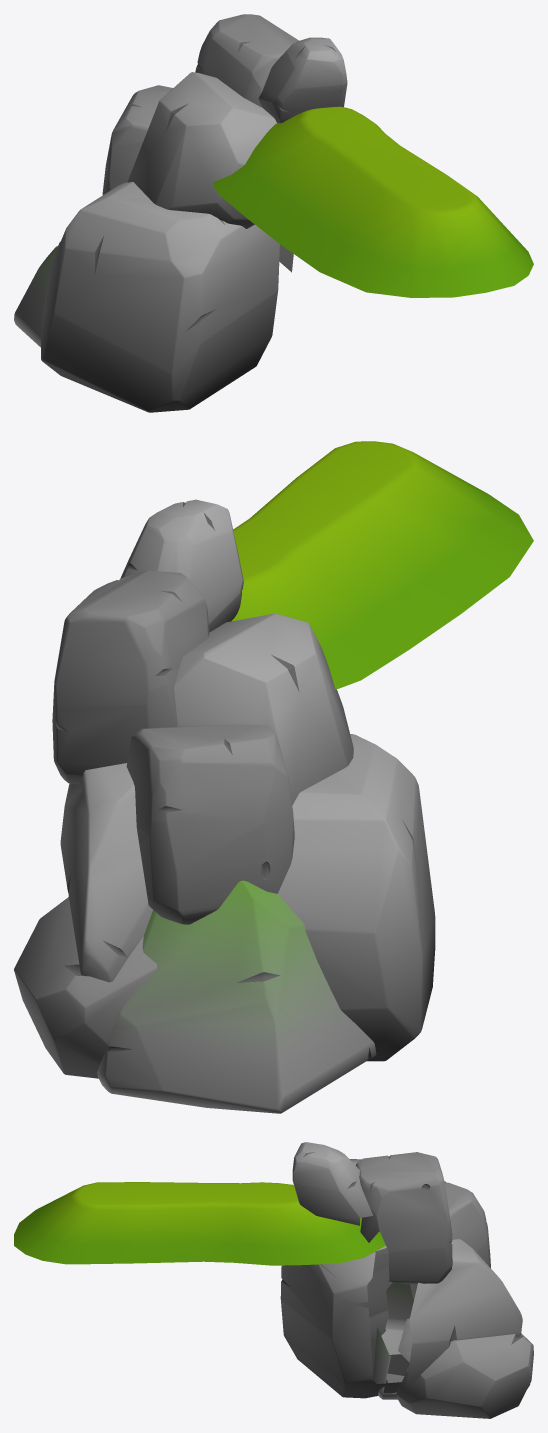
The model's file is RiverFall01Bank02.fbx.
3 renders of one model, top to bottom at view 1: azimuth 30°, elevation 25°; view 2: azimuth 150°, elevation 25°; view 3: azimuth 270°, elevation 25°, orthographic. The views are drawn at different scales.
Visible parts, largest first — view 1: LOD0; view 2: LOD0; view 3: LOD0.
Boxes of the visible parts, <box> form: LOD0: <box>14,14,533,412</box>; LOD0: <box>14,441,533,1113</box>; LOD0: <box>14,1142,533,1418</box>.
Size of what is drawn, in the model's own units: 632 by 1202 by 695.
